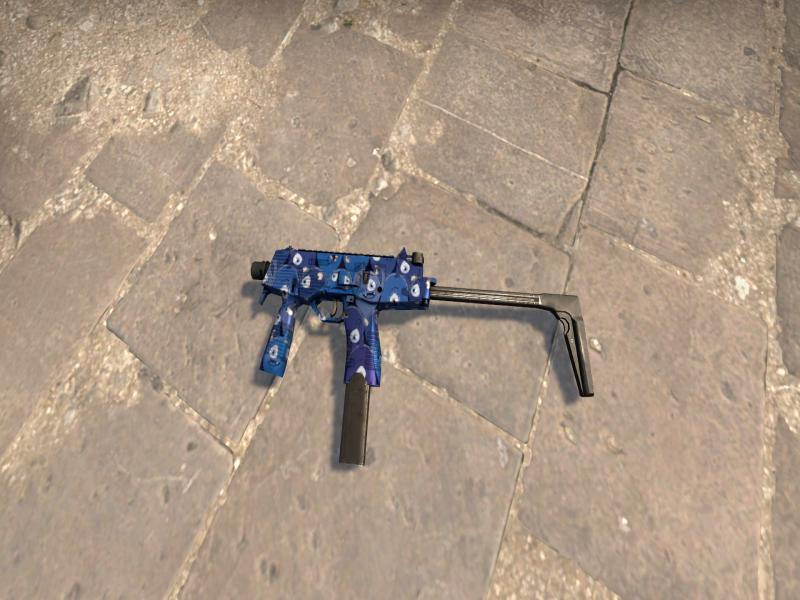MP9: (252, 246, 591, 462)
